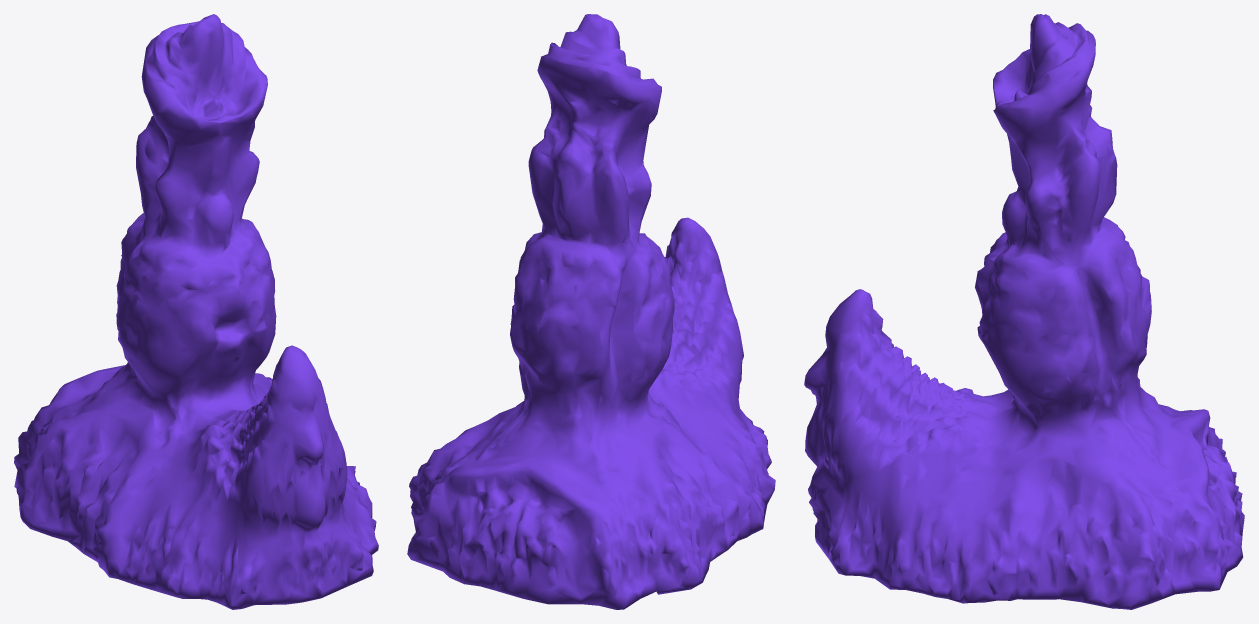
File: small-suction-ar.glb
The picture shows the model from 3 angles, left to right: view 1: azimuth 30°, elevation 25°; view 2: azimuth 150°, elevation 25°; view 3: azimuth 270°, elevation 25°; orthographic projection. The views are drawn at different scales.
Size of the model in its own units: 0.1316 by 0.2227 by 0.1695.
